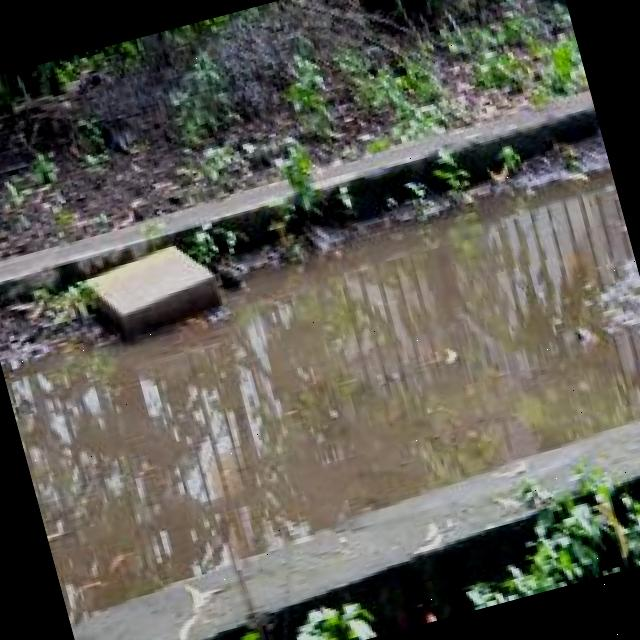waterlogging: (57, 223, 640, 526)
